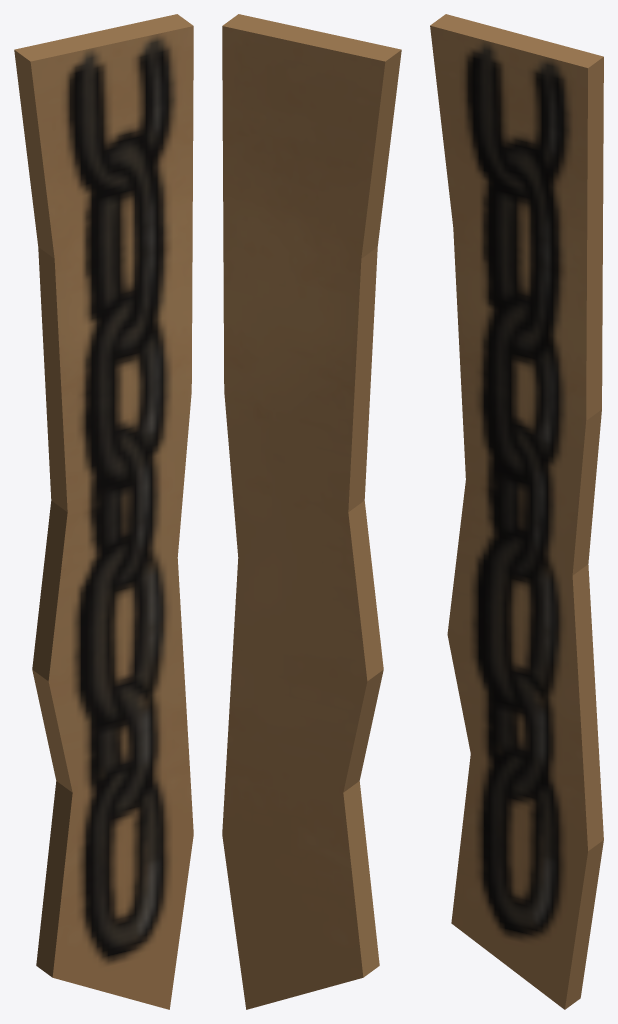
The model's file is SM_Chaine_VF.fbx.
3 renders of one model, left to right at view 1: azimuth 30°, elevation 25°; view 2: azimuth 150°, elevation 25°; view 3: azimuth 330°, elevation 25°, orthographic. The views are drawn at different scales.
Visible parts, largest first — view 1: Chaine; view 2: Chaine; view 3: Chaine.
Boxes of the visible parts, x1=… form: Chaine: x1=14, y1=14, x2=193, y2=1009; Chaine: x1=222, y1=14, x2=401, y2=1009; Chaine: x1=430, y1=14, x2=603, y2=1009.
Bounding box in the file's own units: 32.17 × 185 × 5.59.
